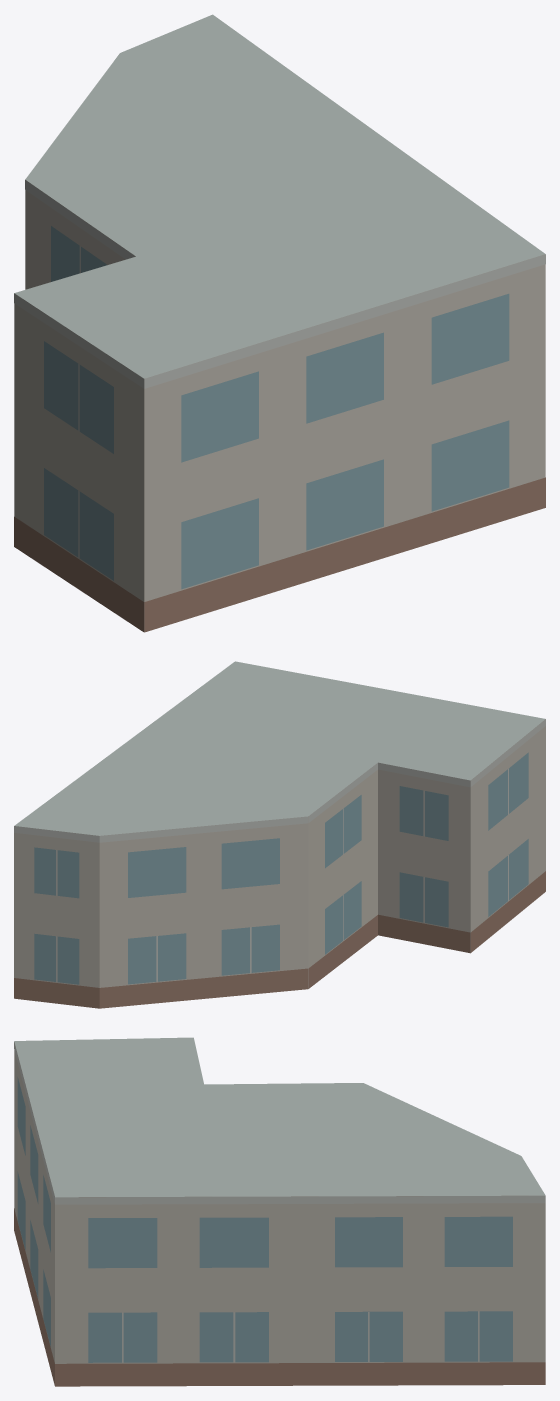
The model's file is survey-upis-32752480.glb.
3 renders of one model, top to bottom at view 1: azimuth 30°, elevation 25°; view 2: azimuth 150°, elevation 25°; view 3: azimuth 270°, elevation 25°, orthographic. The views are drawn at different scales.
Visible parts, largest first — view 1: survey-upis-32752480.tmp; view 2: survey-upis-32752480.tmp; view 3: survey-upis-32752480.tmp.
Part boxes in pixels (left/top/right/bottom): survey-upis-32752480.tmp: left=14, top=14, right=545, bottom=632; survey-upis-32752480.tmp: left=14, top=661, right=545, bottom=1008; survey-upis-32752480.tmp: left=14, top=1037, right=545, bottom=1386.
Size of the model in its own units: 11.05 by 6.1 by 15.54.
